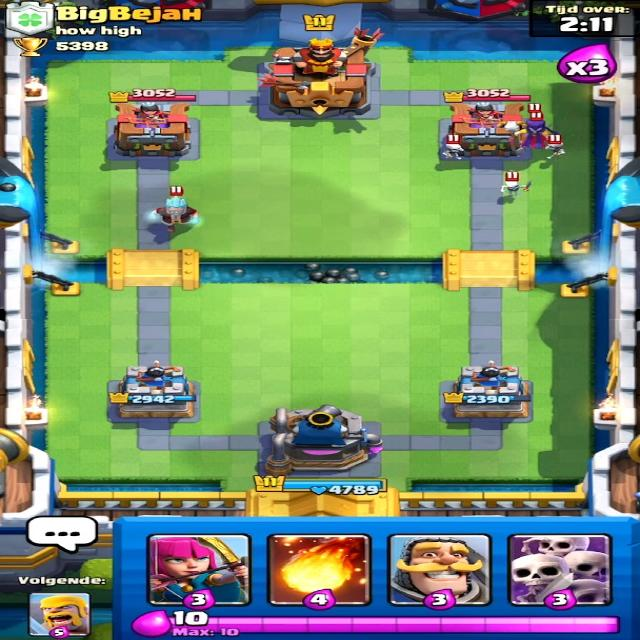Enemy_Ice_Wizard_Troop: (148, 188, 205, 235)
Enemy_Skeleton_Troop: (496, 180, 536, 200), (535, 140, 571, 160), (441, 139, 464, 164)
Enemy_Witch_Troop: (516, 120, 557, 153)
Fireball_Card: (268, 532, 375, 604)
